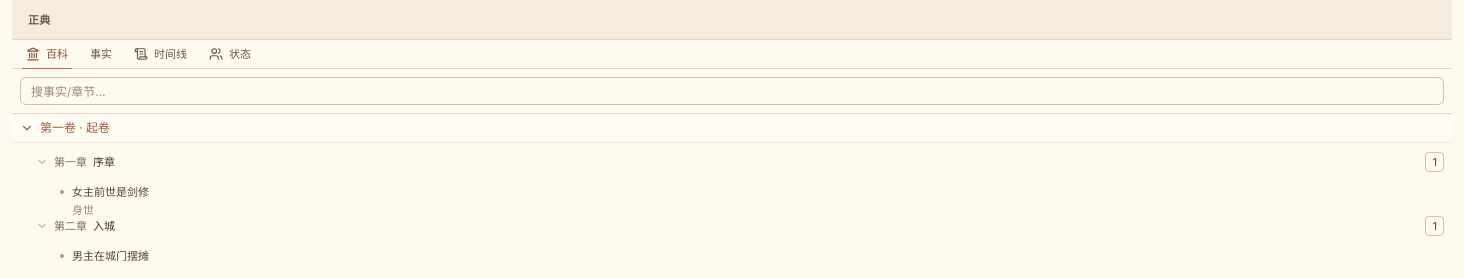
FactsPanel 正典树 › search filters facts and keeps only matching branches
In the field with placeholder "搜事实/章节…": {"x": 732, "y": 91} [20, 77, 1444, 105], type "剑修"
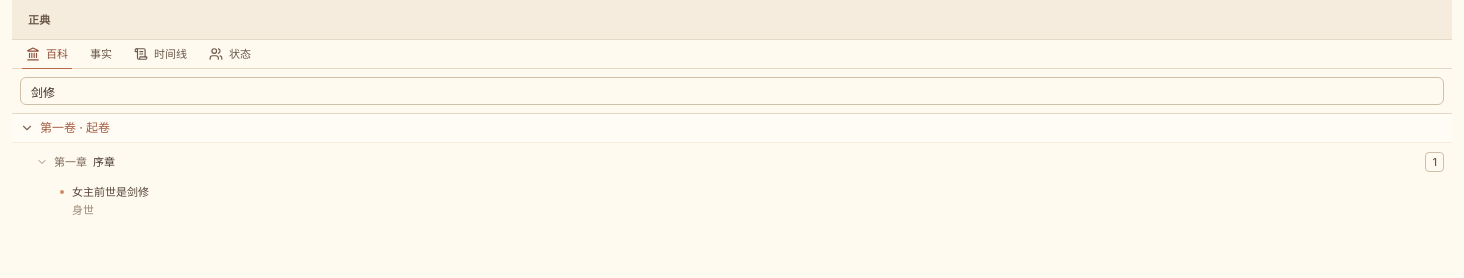
Check: the text "女主前世是剑修" is shown, box [72, 185, 149, 199]
Check: the button "入城" is gone
